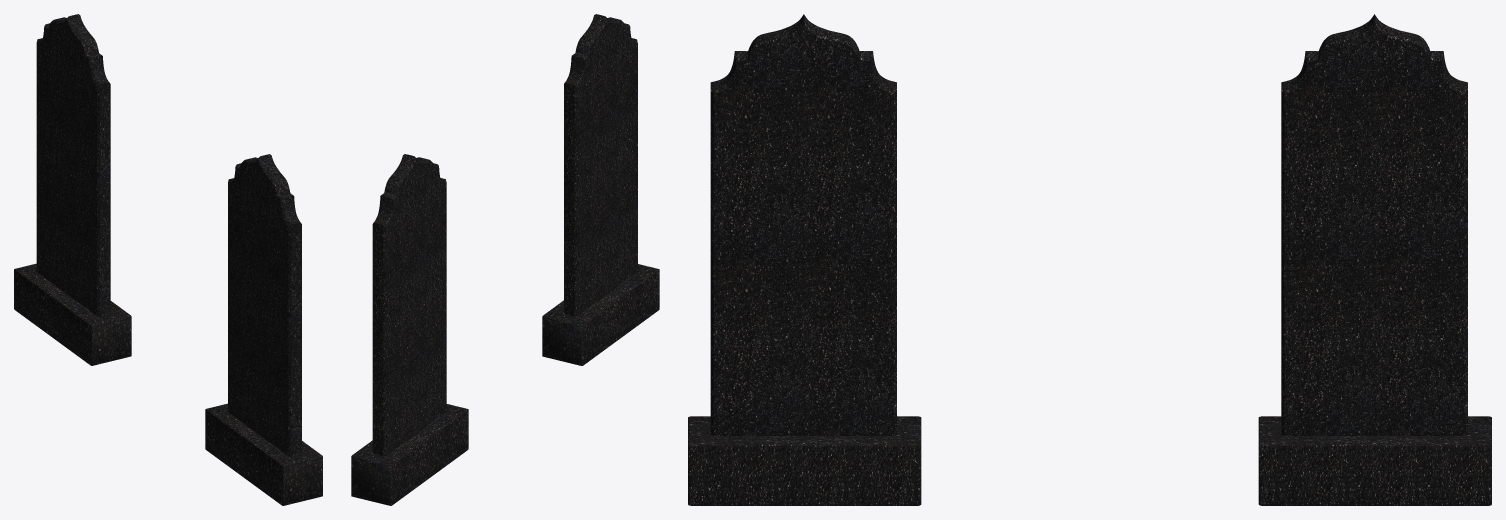
The model's file is Памятник вола Габро [granite_240_u] (100).glb.
3 views of the same model, side by side, from view 1: azimuth 30°, elevation 25°; view 2: azimuth 150°, elevation 25°; view 3: azimuth 270°, elevation 25° (orthographic). The views are drawn at different scales.
Visible parts, largest first — view 1: Cube.059, Cube.001; view 2: Cube.059, Cube.001; view 3: Cube.059, Cube.001.
Part boxes in pixels (x1=…): Cube.059: x1=14, y1=14, x2=131, y2=365; Cube.001: x1=205, y1=154, x2=322, y2=505; Cube.059: x1=351, y1=154, x2=468, y2=505; Cube.001: x1=542, y1=14, x2=659, y2=365; Cube.059: x1=1258, y1=14, x2=1491, y2=505; Cube.001: x1=688, y1=14, x2=921, y2=505.
Size of the model in its own units: 0.15 by 1.12 by 1.72.
2 materials, 2 textured.
